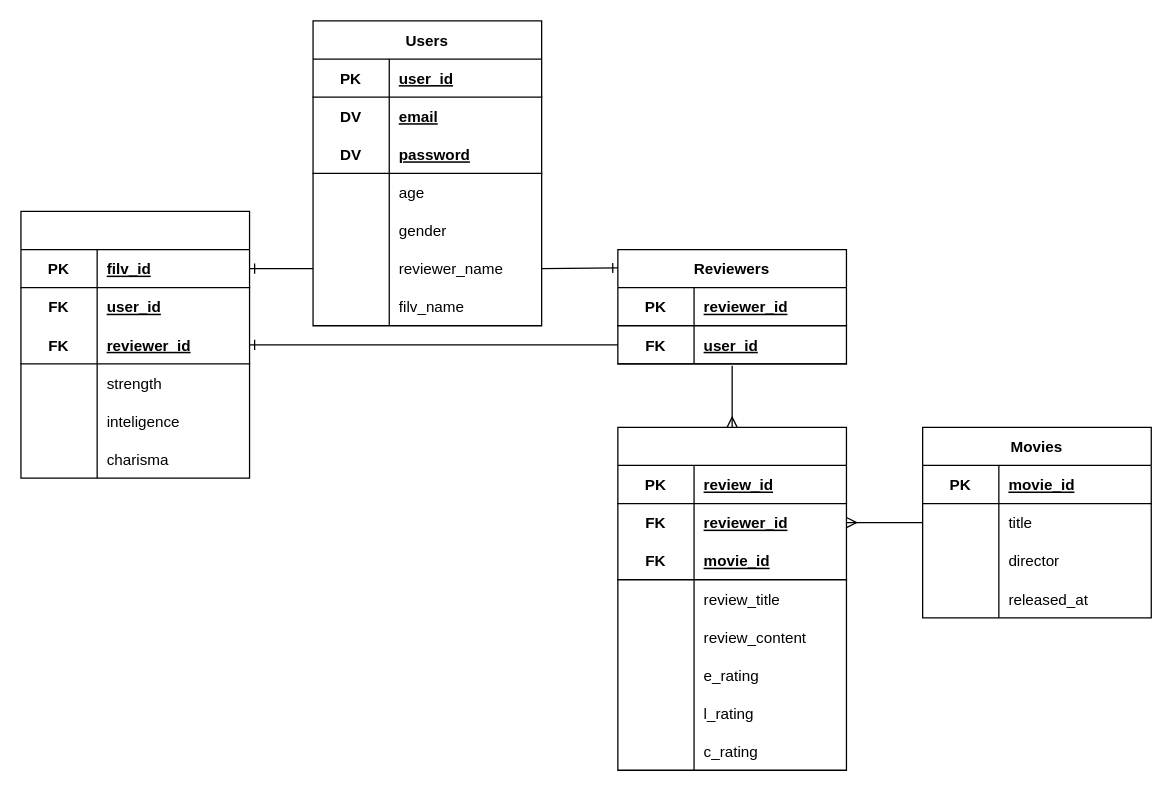
This 1172x791 diagram has some shape labels left out. The shapes that lost their labels are listed below. From the top down, each one's box as (x1, y1, x2, y2) in pixels, then its label:
(20, 210, 250, 478): Filvs
(617, 426, 846, 770): Reviews
